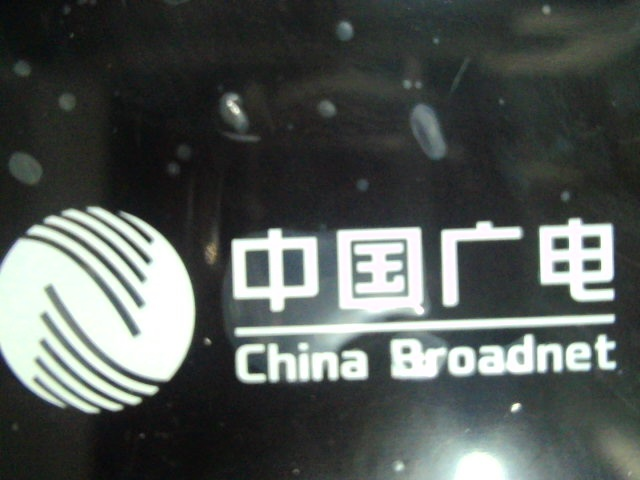AW_ChinaBroadNet: (2, 184, 626, 410)
